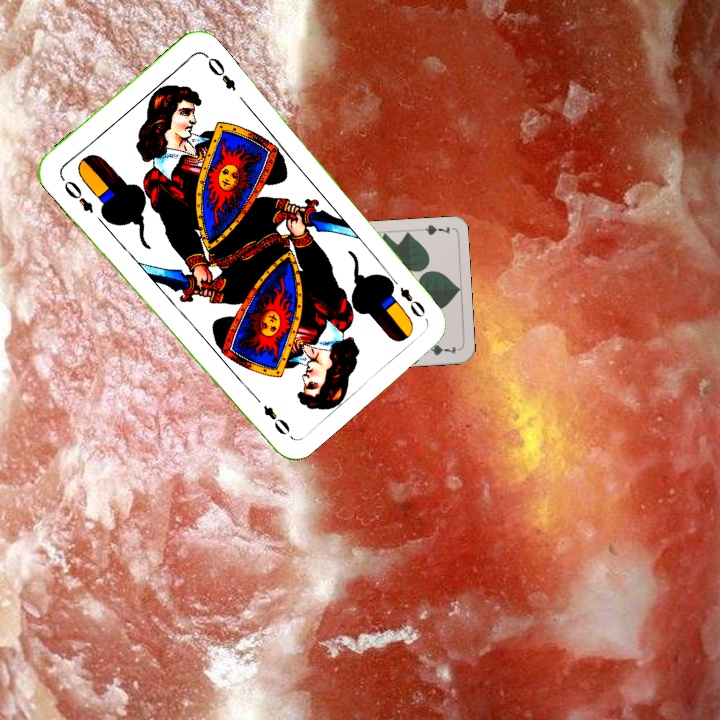EO: (385, 272, 428, 321), (60, 176, 97, 217)
G7: (411, 220, 452, 238)
